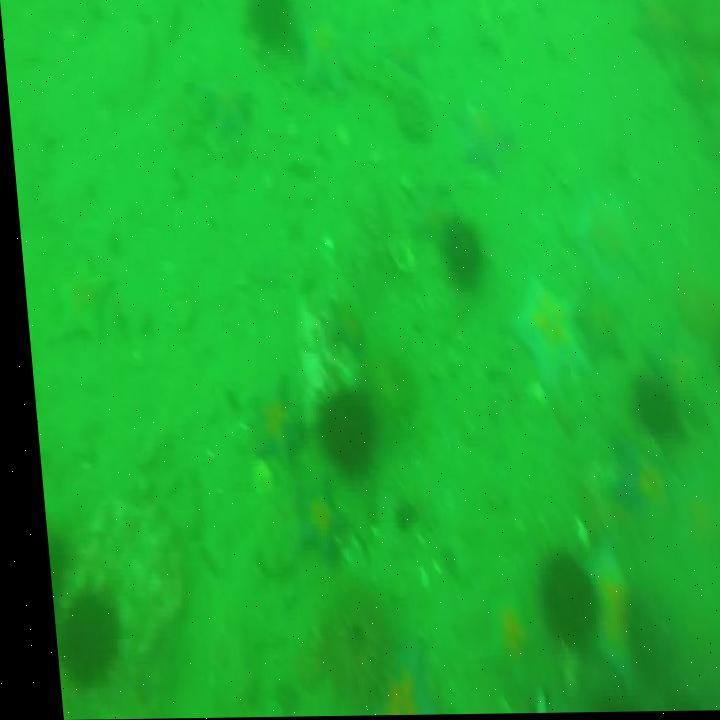echinus: (41, 591, 112, 686), (525, 554, 594, 648), (307, 385, 371, 476), (431, 219, 481, 292), (244, 4, 306, 58), (626, 379, 670, 441), (711, 315, 720, 404)
scallop: (384, 241, 413, 278), (242, 462, 267, 504), (517, 382, 541, 409)
starfish: (502, 278, 584, 394), (32, 241, 110, 352), (553, 171, 632, 278), (577, 555, 644, 678), (318, 648, 432, 717), (602, 432, 675, 530), (450, 86, 516, 180), (235, 379, 302, 469), (289, 471, 344, 564), (187, 63, 251, 140), (293, 21, 358, 93)
